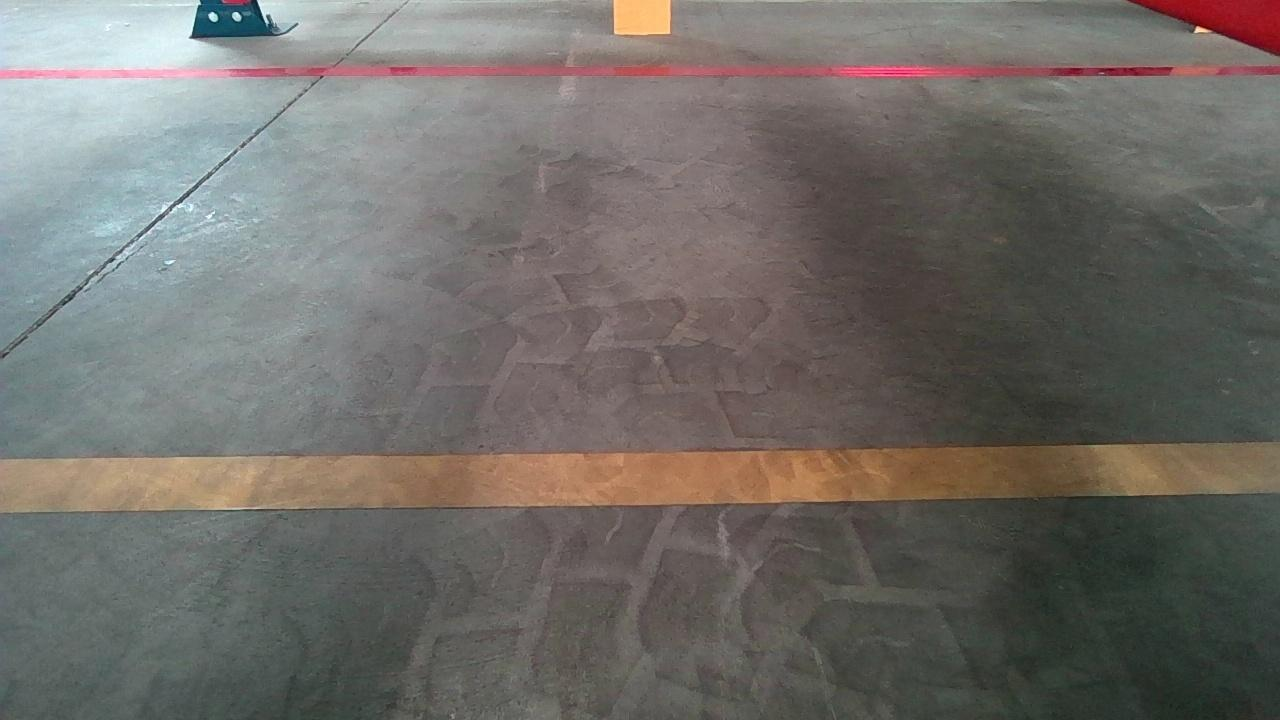orange_strip: (612, 0, 673, 37)
red_line: (3, 57, 1269, 90)
yellow_line: (0, 438, 1268, 516)
